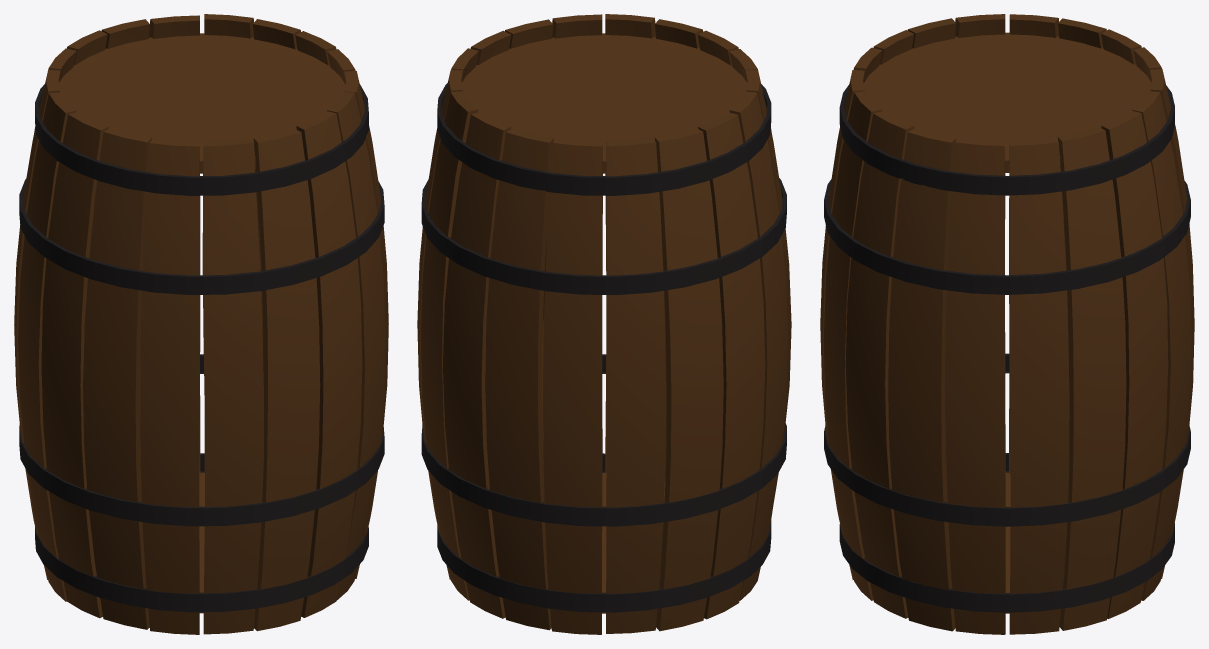
File: fass.glb
The picture shows the model from 3 angles, left to right: view 1: azimuth 30°, elevation 25°; view 2: azimuth 150°, elevation 25°; view 3: azimuth 270°, elevation 25°; orthographic projection.
Parts seen in each view (by area): view 1: fass; view 2: fass; view 3: fass.
Part boxes in pixels (bbox=[...]): fass: bbox=[14, 14, 388, 634]; fass: bbox=[417, 14, 791, 634]; fass: bbox=[820, 14, 1194, 634].
Bounding box in the file's own units: 0.6606 × 0.9525 × 0.6588.
